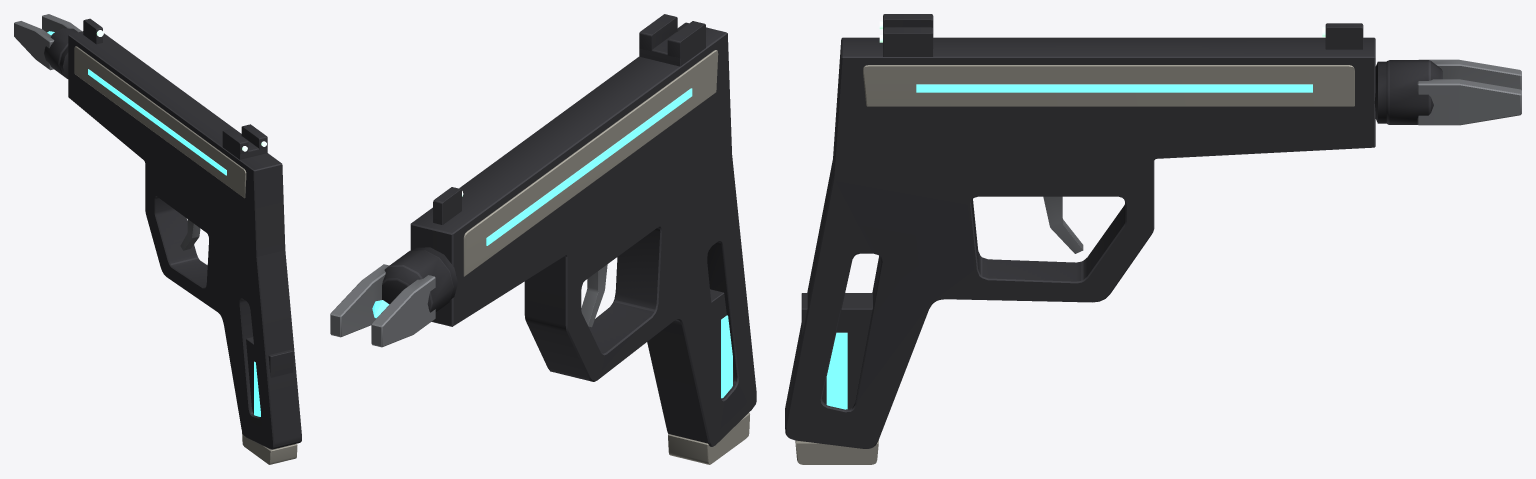
The model's file is e_pistol.glb.
3 views of the same model, side by side, from view 1: azimuth 30°, elevation 25°; view 2: azimuth 150°, elevation 25°; view 3: azimuth 270°, elevation 25° (orthographic). The views are drawn at different scales.
Parts seen in each view (by area): view 1: Body, Cell, IronSight; view 2: Body, IronSight, Cell; view 3: Body, Cell, IronSight.
Part boxes in pixels (x1,y1,x2,y2): Body: (14,14,301,449); Cell: (242,337,297,464); IronSight: (83,18,267,159); Body: (330,22,756,446); IronSight: (433,14,705,224); Cell: (668,289,749,464); Body: (785,37,1521,448); Cell: (795,293,878,464); IronSight: (879,14,1363,56).
Bounding box in the file's own units: 0.0313 × 0.2285 × 0.3529.
